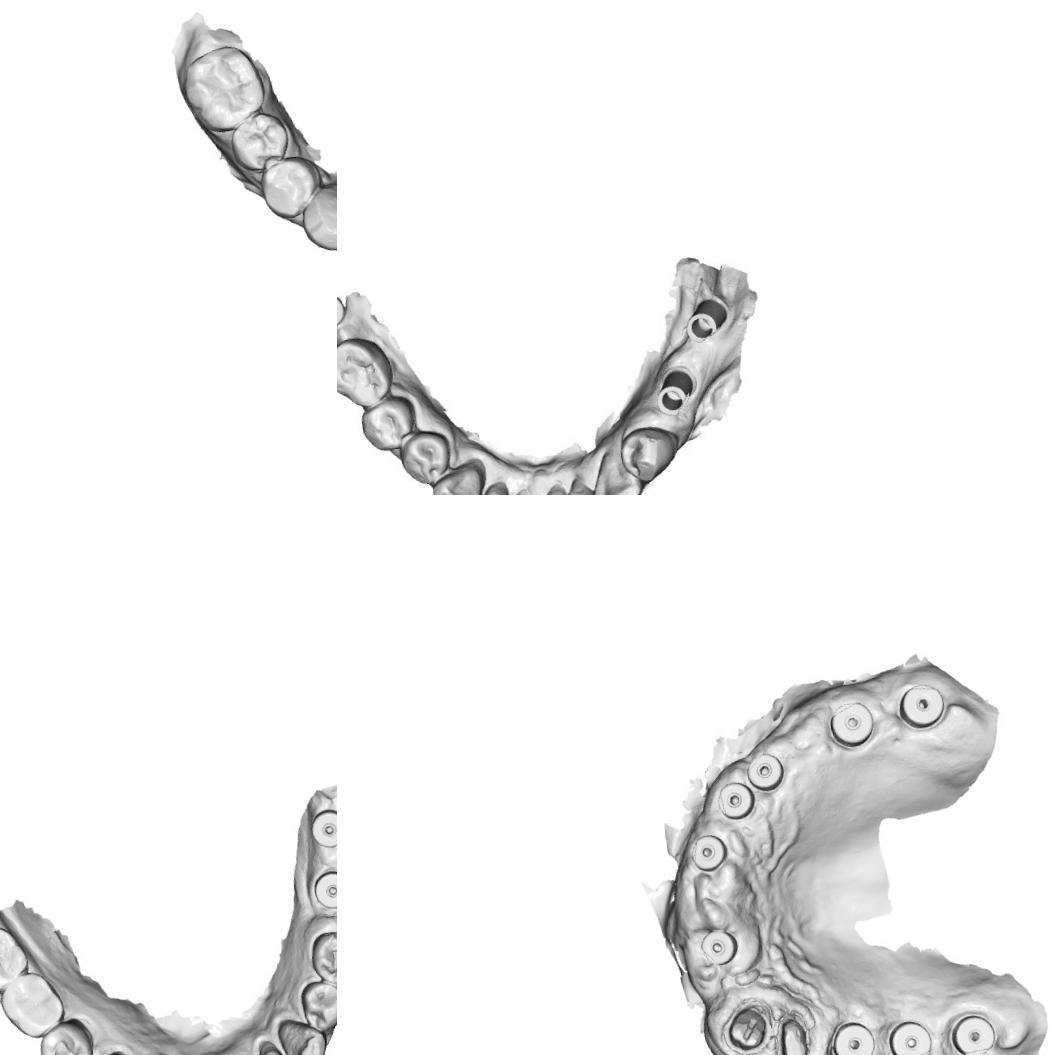canine: (585, 443, 647, 495), (296, 178, 337, 255), (274, 1012, 333, 1055), (428, 457, 491, 495)
crown: (717, 997, 777, 1055), (768, 1009, 815, 1055)
implant: (892, 676, 950, 734), (652, 362, 706, 420), (824, 698, 879, 754), (948, 1008, 999, 1055), (683, 300, 728, 348), (742, 748, 788, 794), (884, 1015, 936, 1055), (714, 778, 758, 824), (826, 1018, 878, 1055), (698, 925, 741, 969), (688, 831, 730, 875), (306, 804, 337, 853), (309, 866, 337, 912), (337, 287, 348, 332)
incisor: (556, 470, 609, 495), (466, 481, 519, 495)
molar: (175, 38, 270, 136), (0, 966, 70, 1044), (337, 329, 398, 414), (0, 922, 33, 999)
premolar: (256, 148, 324, 220), (225, 108, 294, 175), (614, 420, 679, 484), (396, 430, 450, 488), (359, 397, 412, 448), (32, 1015, 98, 1055), (296, 974, 337, 1034), (305, 924, 337, 990)
